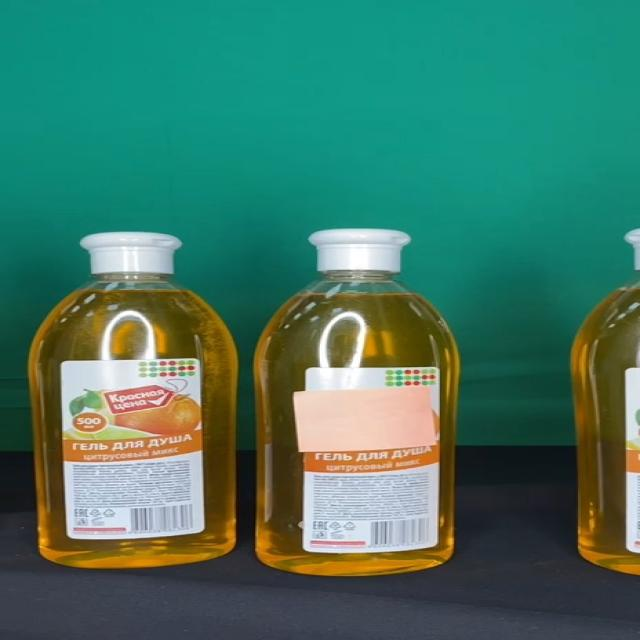Bottle: (257, 228, 461, 575), (29, 231, 238, 568)
Cap: (308, 230, 411, 272), (80, 232, 183, 274)
